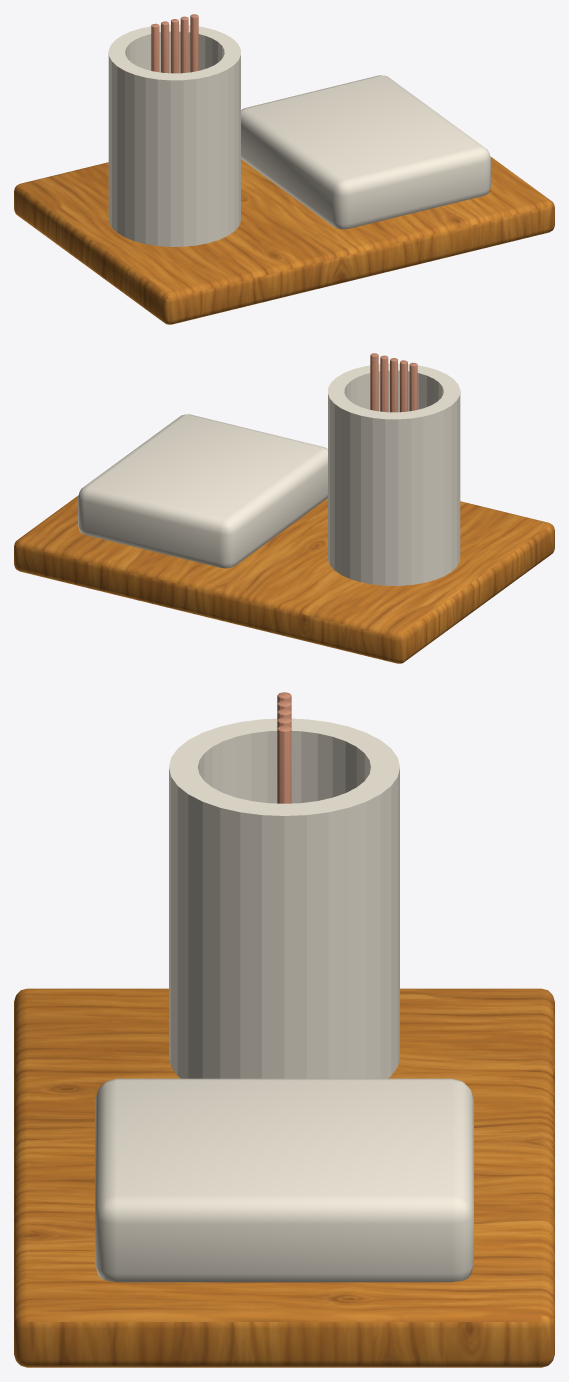
Rendered from desk-organizer.glb.
3 views of the same model, one above another, from view 1: azimuth 30°, elevation 25°; view 2: azimuth 150°, elevation 25°; view 3: azimuth 270°, elevation 25° (orthographic). The views are drawn at different scales.
Visible parts, largest first — view 1: desk-organizer; view 2: desk-organizer; view 3: desk-organizer.
Boxes of the visible parts, x1=… form: desk-organizer: x1=14, y1=14, x2=554, y2=324; desk-organizer: x1=14, y1=353, x2=554, y2=663; desk-organizer: x1=14, y1=692, x2=554, y2=1367.
Size of the model in its own units: 0.32 by 0.18 by 0.22.
3 materials, 1 textured.
